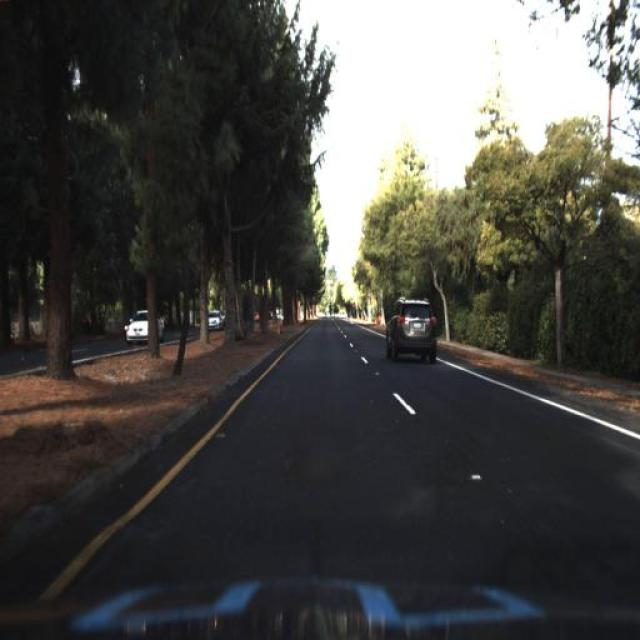car: (384, 292, 438, 353), (122, 308, 168, 352), (127, 310, 165, 340), (204, 302, 222, 334)
